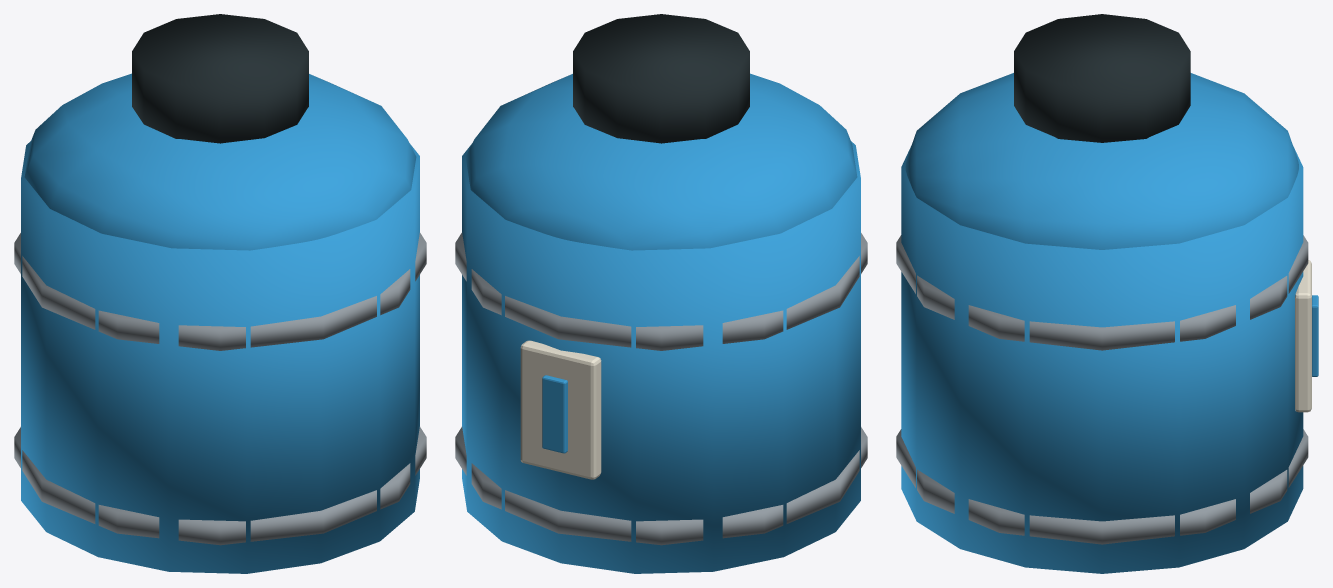
The model's file is ItemChug.glb.
The picture shows the model from 3 angles, left to right: view 1: azimuth 30°, elevation 25°; view 2: azimuth 150°, elevation 25°; view 3: azimuth 270°, elevation 25°; orthographic projection.
Parts seen in each view (by area): view 1: ItemChug; view 2: ItemChug; view 3: ItemChug.
Part boxes in pixels (x1,y1,x2,y2): ItemChug: (14, 14, 426, 573); ItemChug: (455, 14, 867, 573); ItemChug: (896, 14, 1318, 573).
Size of the model in its own units: 0.2132 by 0.25 by 0.2186.
